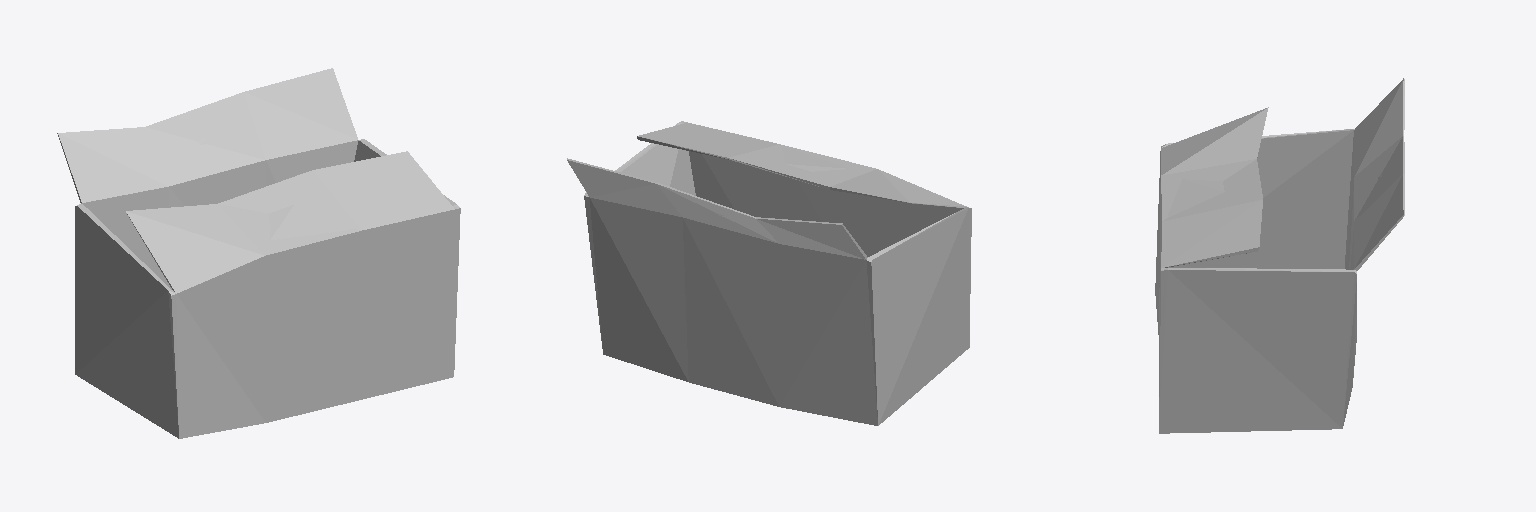
3 views of the same model, side by side, from view 1: azimuth 30°, elevation 25°; view 2: azimuth 150°, elevation 25°; view 3: azimuth 270°, elevation 25° (orthographic).
Parts seen in each view (by area): view 1: Cardboard_01_Mesh.010; view 2: Cardboard_01_Mesh.010; view 3: Cardboard_01_Mesh.010.
Part boxes in pixels (left/top/right/bottom): Cardboard_01_Mesh.010: left=57, top=68, right=460, bottom=438; Cardboard_01_Mesh.010: left=567, top=121, right=971, bottom=425; Cardboard_01_Mesh.010: left=1155, top=78, right=1404, bottom=433.
Size of the model in its own units: 0.2574 by 0.1878 by 0.1914.